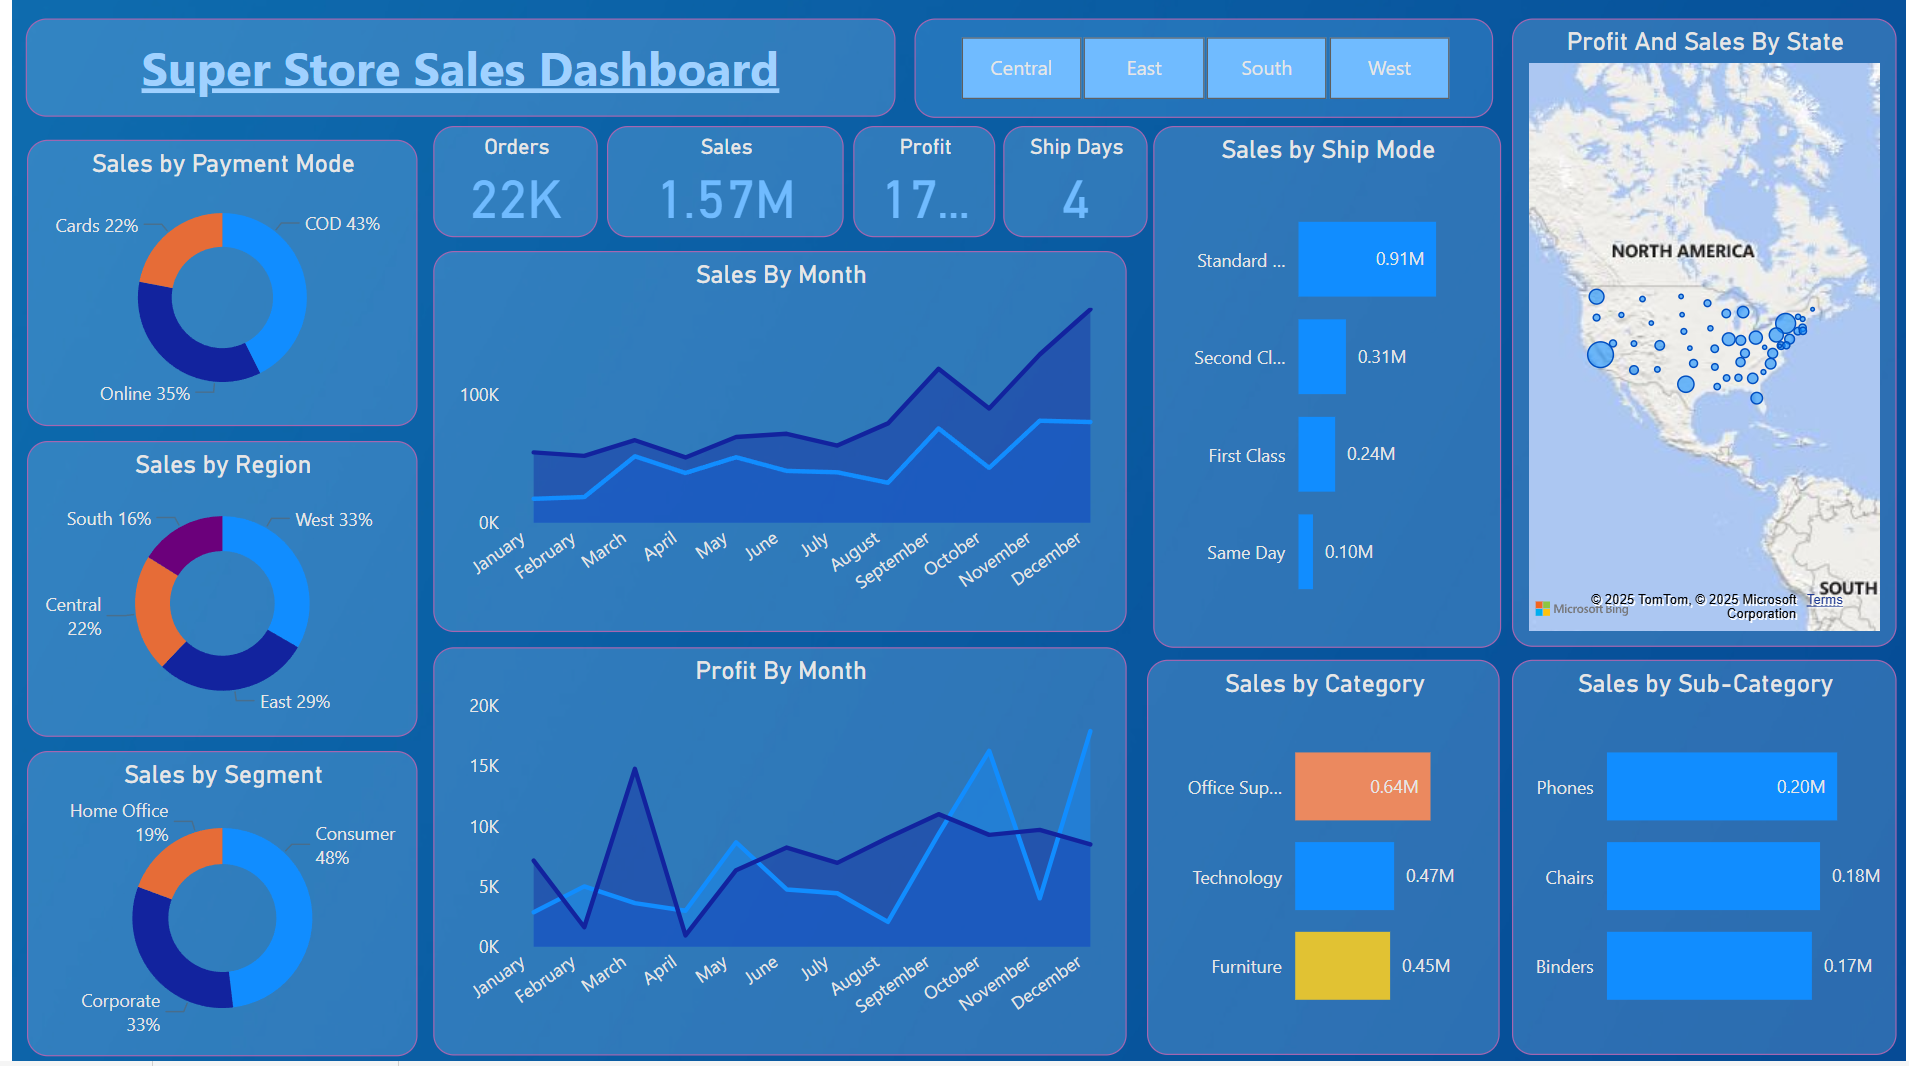

This screenshot's page, from the dashboard's own definition file:
{"tool":"powerbi","page":{"name":"Store Sales Dashboard","canvas":[1280,720],"ordinal":0},"visuals":[{"type":"clusteredBarChart","title":"Sales by Category","fields":{"Category":["SuperStore_Sales_Dataset.Category"],"Y":["Sum(SuperStore_Sales_Dataset.Sales)"]},"box":[767.5,448.8,238.8,267.5],"z":0},{"type":"clusteredBarChart","title":"Sales by Sub-Category","fields":{"Category":["SuperStore_Sales_Dataset.Sub-Category"],"Y":["Sum(SuperStore_Sales_Dataset.Sales)"]},"box":[1013.8,448.8,260,267.5],"z":1000},{"type":"clusteredBarChart","title":"Sales by Ship Mode","fields":{"Category":["SuperStore_Sales_Dataset.Ship Mode"],"Y":["Sum(SuperStore_Sales_Dataset.Sales)"]},"box":[771.2,87.5,235,352.5],"z":2000},{"type":"areaChart","title":" Sales By Month","fields":{"Y":["Sum(SuperStore_Sales_Dataset.Sales)"],"Category":["SuperStore_Sales_Dataset.Order Date.Variation.Date Hierarchy.Month","SuperStore_Sales_Dataset.Order Date.Variation.Date Hierarchy.Day"],"Series":["SuperStore_Sales_Dataset.Order Date.Variation.Date Hierarchy.Year"]},"box":[285,172.5,468.8,257.5],"z":3000},{"type":"areaChart","title":"Profit By Month","fields":{"Category":["SuperStore_Sales_Dataset.Order Date.Variation.Date Hierarchy.Month","SuperStore_Sales_Dataset.Order Date.Variation.Date Hierarchy.Day"],"Series":["SuperStore_Sales_Dataset.Order Date.Variation.Date Hierarchy.Year"],"Y":["Sum(SuperStore_Sales_Dataset.Profit)"]},"box":[285,440,468.8,276.2],"z":4000},{"type":"donutChart","title":" Sales by Segment","fields":{"Category":["SuperStore_Sales_Dataset.Segment"],"Y":["Sum(SuperStore_Sales_Dataset.Sales)"]},"box":[10,510,263.8,206.2],"z":5000},{"type":"donutChart","title":"Sales by Payment Mode","fields":{"Y":["Sum(SuperStore_Sales_Dataset.Sales)"],"Category":["SuperStore_Sales_Dataset.Payment Mode"]},"box":[10,97.5,263.8,193.8],"z":6000},{"type":"slicer","fields":{"Values":["SuperStore_Sales_Dataset.Region"]},"box":[610,15,391.2,67.5],"z":7000},{"type":"textbox","box":[15,15,582.5,67.5],"z":8000},{"type":"card","title":"Sales","fields":{"Values":["Sum(SuperStore_Sales_Dataset.Sales)"]},"box":[402.5,87.5,160,75],"z":9000},{"type":"card","title":"Orders","fields":{"Values":["Sum(SuperStore_Sales_Dataset.Quantity)"]},"box":[285,87.5,111.2,75],"z":10000},{"type":"card","title":"Profit","fields":{"Values":["Sum(SuperStore_Sales_Dataset.Profit)"]},"box":[568.8,87.5,96.2,75],"z":11000},{"type":"card","title":"Ship Days","fields":{"Values":["Avg(SuperStore_Sales_Dataset.AvgDelivery)"]},"box":[670,87.5,97.5,75],"z":12000},{"type":"donutChart","title":"Sales by Region","fields":{"Category":["SuperStore_Sales_Dataset.Region"],"Y":["Sum(SuperStore_Sales_Dataset.Sales)"]},"box":[10,301.2,263.8,200],"z":13000},{"type":"map","title":"Profit And Sales By State","fields":{"Category":["SuperStore_Sales_Dataset.State"],"Size":["Sum(SuperStore_Sales_Dataset.Sales)"]},"box":[1013.8,15,260,425],"z":14000}]}

Visuals, with their boxes in screenshot pixels (x1, y1, x2, y2), scaled from the page's 1280x720 canvas onto the 1909x1066 screenshot:
"Sales by Category" clusteredBarChart: {"left": 1145, "top": 664, "right": 1501, "bottom": 1061}
"Sales by Sub-Category" clusteredBarChart: {"left": 1512, "top": 664, "right": 1900, "bottom": 1061}
"Sales by Ship Mode" clusteredBarChart: {"left": 1150, "top": 130, "right": 1501, "bottom": 651}
" Sales By Month" areaChart: {"left": 425, "top": 255, "right": 1124, "bottom": 637}
"Profit By Month" areaChart: {"left": 425, "top": 651, "right": 1124, "bottom": 1060}
" Sales by Segment" donutChart: {"left": 15, "top": 755, "right": 408, "bottom": 1060}
"Sales by Payment Mode" donutChart: {"left": 15, "top": 144, "right": 408, "bottom": 431}
slicer - SuperStore_Sales_Dataset.Region: {"left": 910, "top": 22, "right": 1493, "bottom": 122}
textbox: {"left": 22, "top": 22, "right": 891, "bottom": 122}
"Sales" card: {"left": 600, "top": 130, "right": 839, "bottom": 241}
"Orders" card: {"left": 425, "top": 130, "right": 591, "bottom": 241}
"Profit" card: {"left": 848, "top": 130, "right": 992, "bottom": 241}
"Ship Days" card: {"left": 999, "top": 130, "right": 1145, "bottom": 241}
"Sales by Region" donutChart: {"left": 15, "top": 446, "right": 408, "bottom": 742}
"Profit And Sales By State" map: {"left": 1512, "top": 22, "right": 1900, "bottom": 651}
